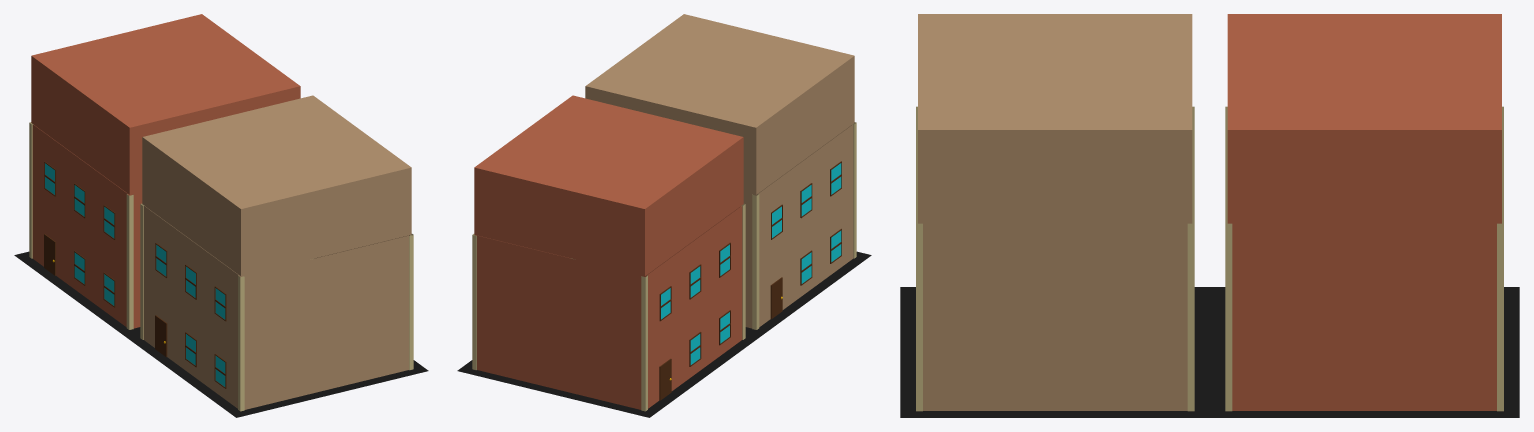
Rendered from Buildings7.fbx.
The picture shows the model from 3 angles, left to right: view 1: azimuth 30°, elevation 25°; view 2: azimuth 150°, elevation 25°; view 3: azimuth 270°, elevation 25°; orthographic projection. The views are drawn at different scales.
Parts seen in each view (by area): view 1: Buildings 2.004; view 2: Buildings 2.004; view 3: Buildings 2.004.
Part boxes in pixels (bbox=[...]): Buildings 2.004: bbox=[14, 14, 428, 417]; Buildings 2.004: bbox=[457, 14, 871, 417]; Buildings 2.004: bbox=[900, 14, 1519, 417].
Bounding box in the file's own units: 3000 × 1500 × 1500.
